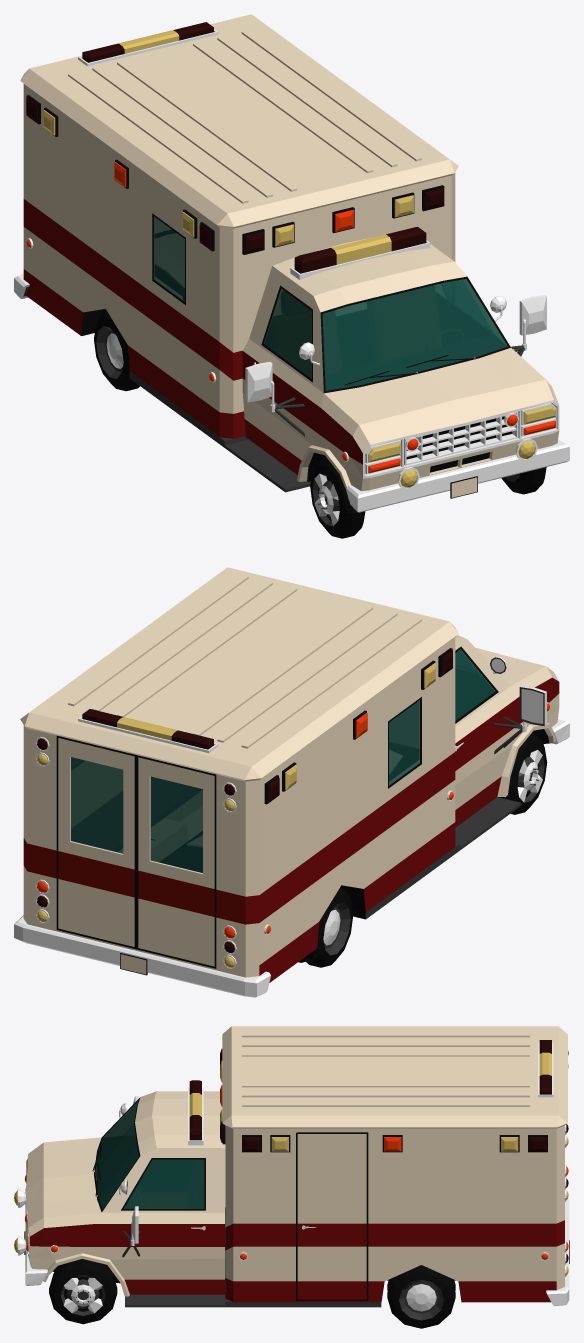
The model's file is Ambulance_02.FBX.
3 views of the same model, one above another, from view 1: azimuth 30°, elevation 25°; view 2: azimuth 150°, elevation 25°; view 3: azimuth 270°, elevation 25° (orthographic). The views are drawn at different scales.
Visible parts, largest first — view 1: Ambulance_02, interior, lights, bumper_f, signalLights_01, signalLights_02, wheel_f_r, grill, wheel_b_r, mirrors_r, mirrors_l, headLights (+1 smaller); view 2: Ambulance_02, interior, bumper_b, wheel_b_r, wheel_f_r, lights, signalLights_01, mirrors_r, signalLights_02; view 3: Ambulance_02, interior, wheel_f_l, wheel_b_l, lights, signalLights_01, signalLights_02, bumper_b, mirrors_l, bumper_f.
Part boxes in pixels (bbox=[...]): Ambulance_02: bbox=[20, 14, 559, 499]; interior: bbox=[154, 217, 507, 390]; lights: bbox=[26, 29, 556, 490]; bumper_f: bbox=[346, 439, 569, 512]; signalLights_01: bbox=[26, 30, 443, 273]; signalLights_02: bbox=[43, 22, 517, 450]; wheel_f_r: bbox=[310, 457, 365, 538]; grill: bbox=[404, 411, 518, 465]; wheel_b_r: bbox=[94, 310, 139, 391]; mirrors_r: bbox=[245, 342, 319, 436]; mirrors_l: bbox=[490, 295, 546, 356]; headLights: bbox=[368, 405, 555, 487]; Ambulance_02: bbox=[20, 567, 559, 982]; interior: bbox=[71, 649, 495, 872]; bumper_b: bbox=[14, 915, 270, 997]; wheel_b_r: bbox=[298, 887, 353, 967]; wheel_f_r: bbox=[498, 733, 547, 814]; lights: bbox=[35, 648, 549, 969]; signalLights_01: bbox=[37, 650, 452, 802]; mirrors_r: bbox=[490, 656, 546, 754]; signalLights_02: bbox=[37, 663, 435, 811]; Ambulance_02: bbox=[25, 1026, 567, 1307]; interior: bbox=[96, 1102, 203, 1209]; wheel_f_l: bbox=[49, 1259, 117, 1324]; wheel_b_l: bbox=[387, 1265, 455, 1328]; lights: bbox=[18, 1042, 566, 1276]; signalLights_01: bbox=[189, 1049, 568, 1151]; signalLights_02: bbox=[25, 1040, 568, 1222]; bumper_b: bbox=[546, 1198, 569, 1306]; mirrors_l: bbox=[119, 1179, 140, 1257]; bumper_f: bbox=[25, 1188, 47, 1285].
Bounding box in the file's own units: 34.28 × 29.43 × 66.89.
